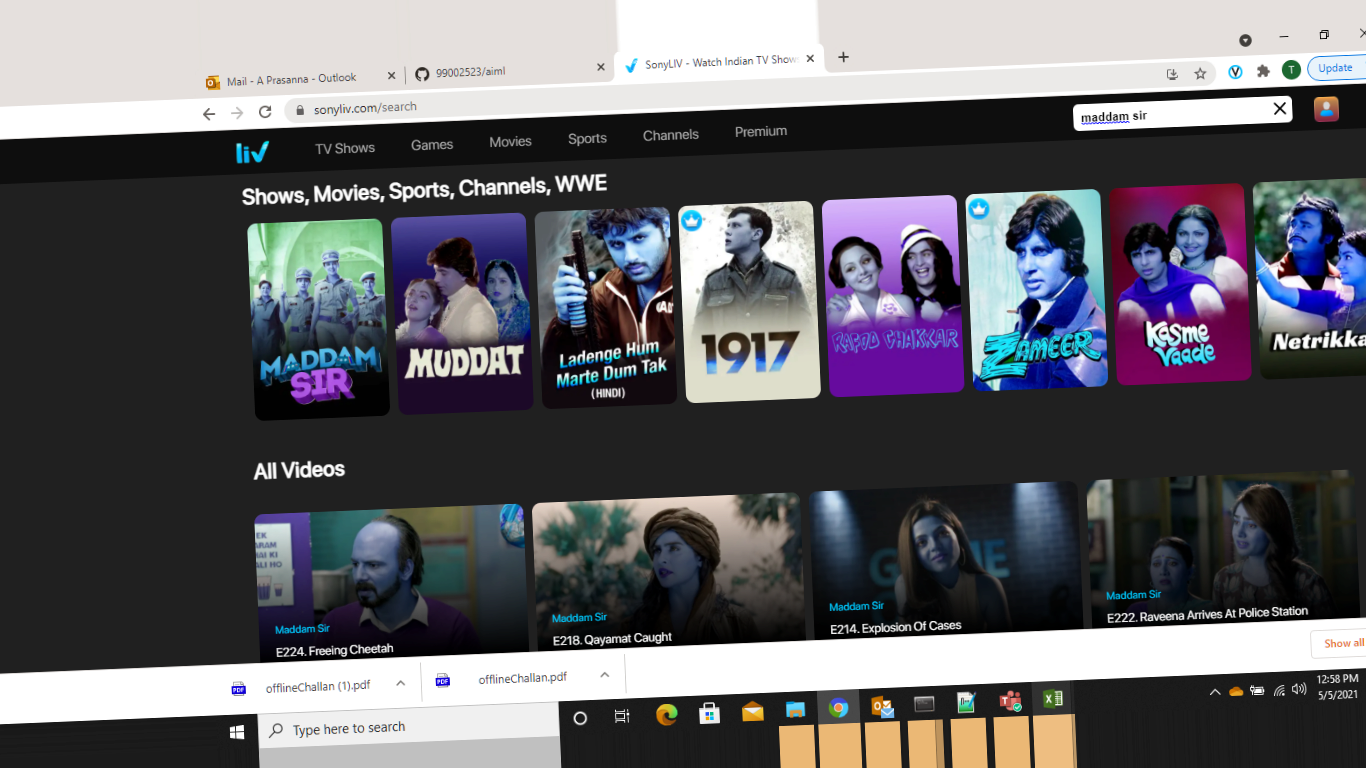profileicon: (1304, 90, 1355, 125)
searchtextbox: (1066, 94, 1294, 134)
